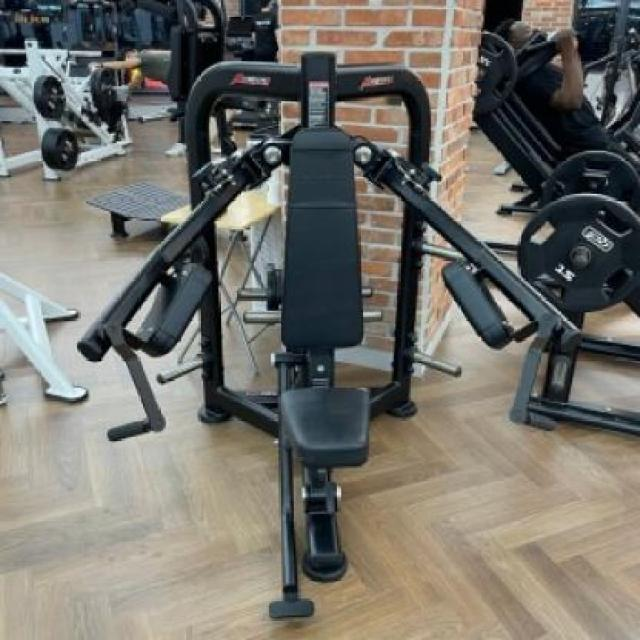lateral raises machine: (77, 85, 578, 620)
